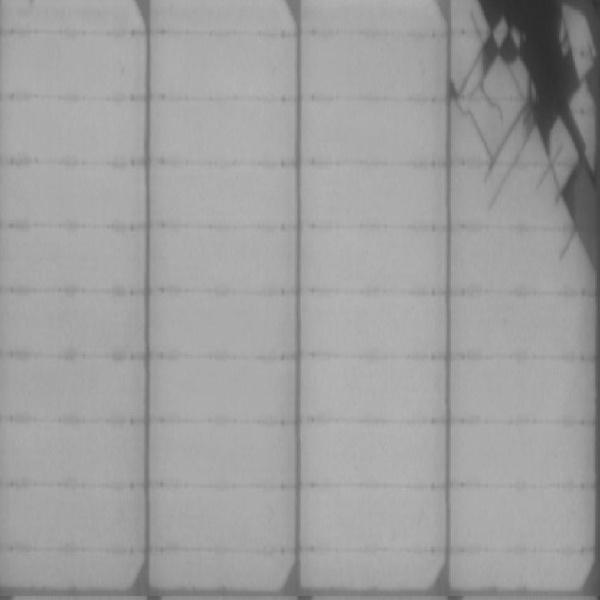broken: (450, 1, 600, 273)
